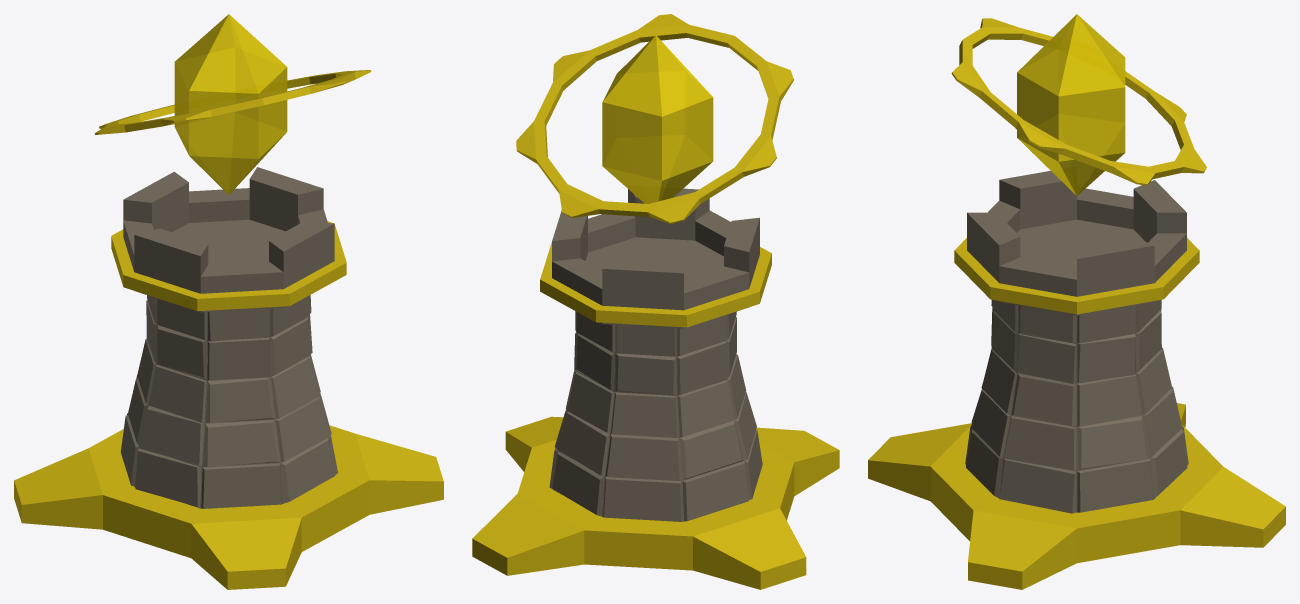
The model's file is Restauracao_Nv4.glb.
3 renders of one model, left to right at view 1: azimuth 30°, elevation 25°; view 2: azimuth 150°, elevation 25°; view 3: azimuth 270°, elevation 25°, orthographic. The views are drawn at different scales.
Parts seen in each view (by area): view 1: Cylinder.003, Cristal.003, Turret.003; view 2: Cylinder.003, Cristal.003, Turret.003; view 3: Cylinder.003, Cristal.003, Turret.003.
Part boxes in pixels (left/top/right/bottom): Cylinder.003: left=14, top=167, right=443, bottom=589; Cristal.003: left=174, top=14, right=287, bottom=194; Turret.003: left=94, top=70, right=371, bottom=134; Cylinder.003: left=472, top=188, right=839, bottom=589; Cristal.003: left=602, top=35, right=713, bottom=203; Turret.003: left=516, top=14, right=793, bottom=223; Cylinder.003: left=868, top=170, right=1285, bottom=589; Cristal.003: left=1017, top=14, right=1125, bottom=195; Turret.003: left=951, top=18, right=1206, bottom=185.
Bounding box in the file's own units: 1.61 × 2.08 × 1.61.
